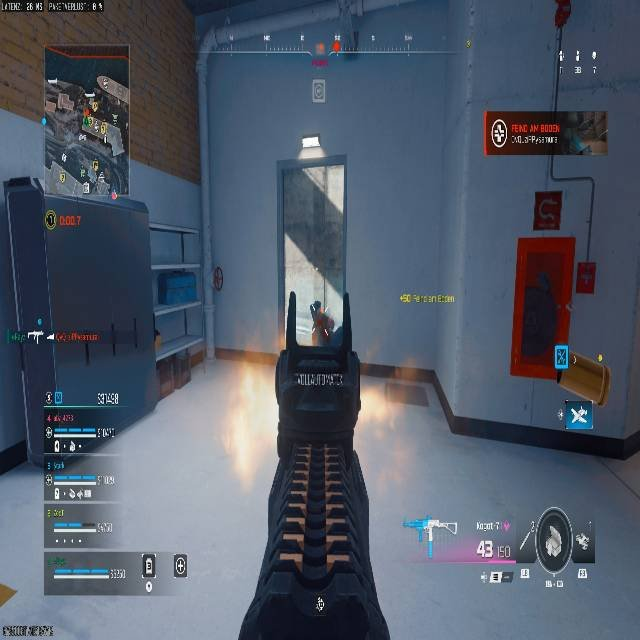head: (310, 300, 321, 312)
player: (309, 300, 334, 344)
